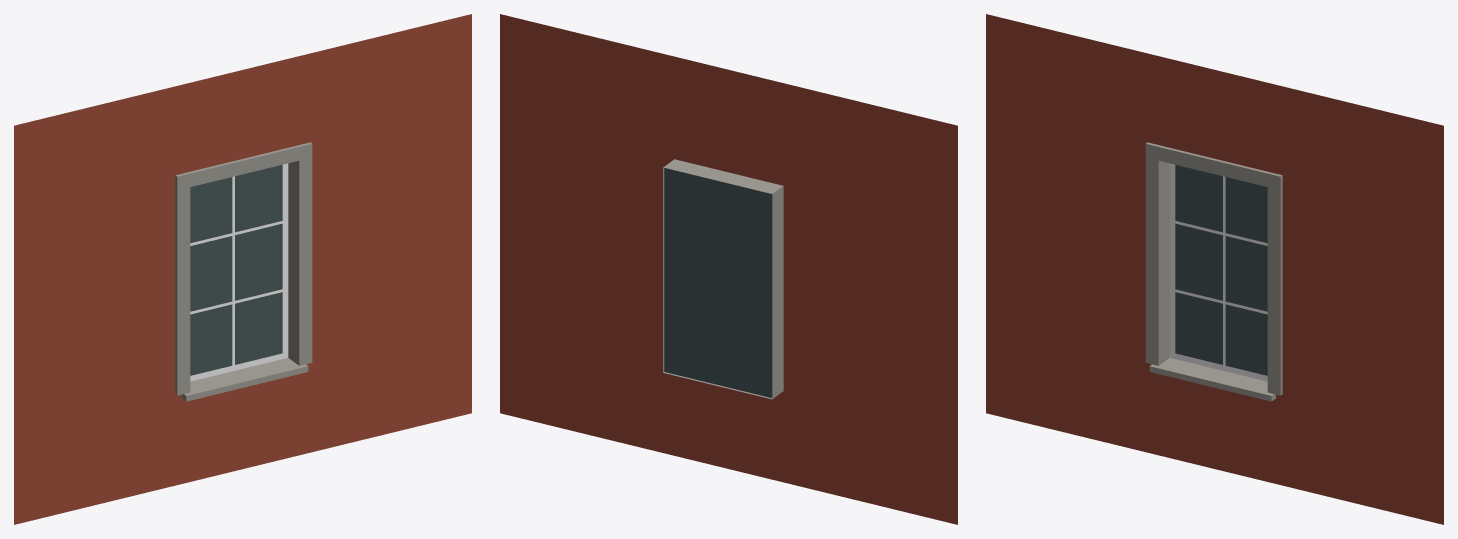
File: mid-w1.fbx
The picture shows the model from 3 angles, left to right: view 1: azimuth 30°, elevation 25°; view 2: azimuth 150°, elevation 25°; view 3: azimuth 330°, elevation 25°; orthographic projection.
Parts seen in each view (by area): view 1: a2003/700/mid-w1; view 2: a2003/700/mid-w1; view 3: a2003/700/mid-w1.
Part boxes in pixels (<box>): a2003/700/mid-w1: <box>14,14,471,524</box>; a2003/700/mid-w1: <box>500,14,957,524</box>; a2003/700/mid-w1: <box>986,14,1443,524</box>.
Size of the model in its own units: 4.2 by 3.5 by 0.25.
